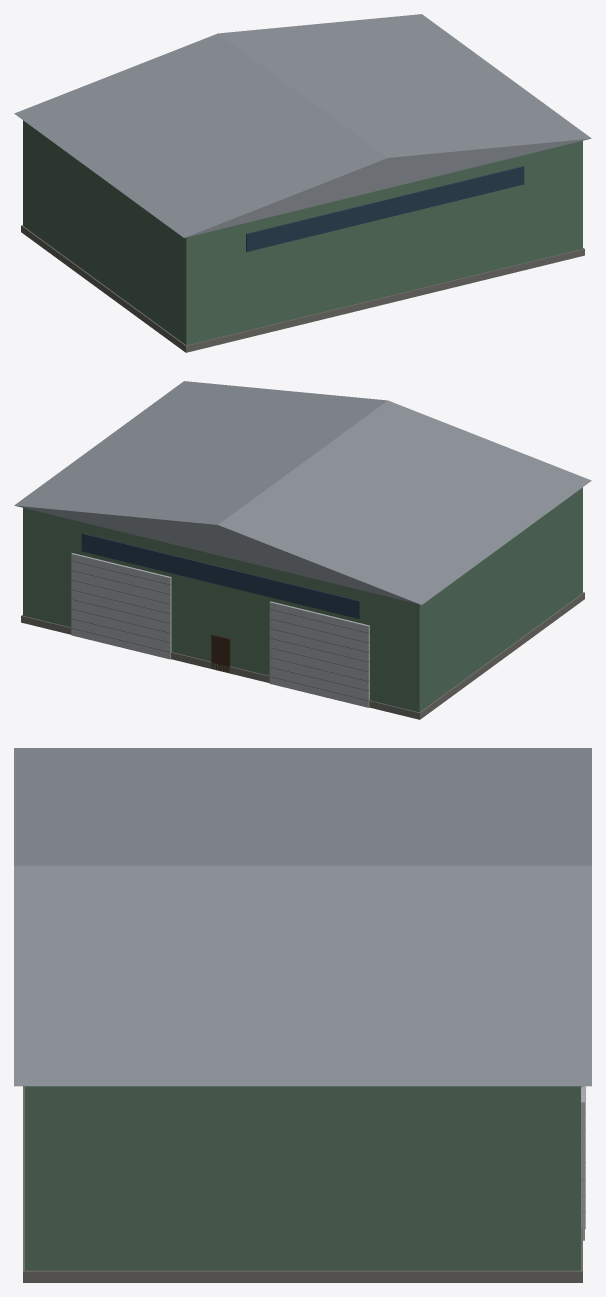
Rendered from bld_warehouse_b.glb.
3 views of the same model, one above another, from view 1: azimuth 30°, elevation 25°; view 2: azimuth 150°, elevation 25°; view 3: azimuth 270°, elevation 25° (orthographic). The views are drawn at different scales.
Visible parts, largest first — view 1: bld_warehouse_b__mesh; view 2: bld_warehouse_b__mesh; view 3: bld_warehouse_b__mesh.
Part boxes in pixels (x1,y1,x2,y2): bld_warehouse_b__mesh: (14, 14, 591, 352); bld_warehouse_b__mesh: (14, 381, 591, 719); bld_warehouse_b__mesh: (14, 748, 591, 1282).
Bounding box in the file's own units: 28.8 × 10 × 20.8.
